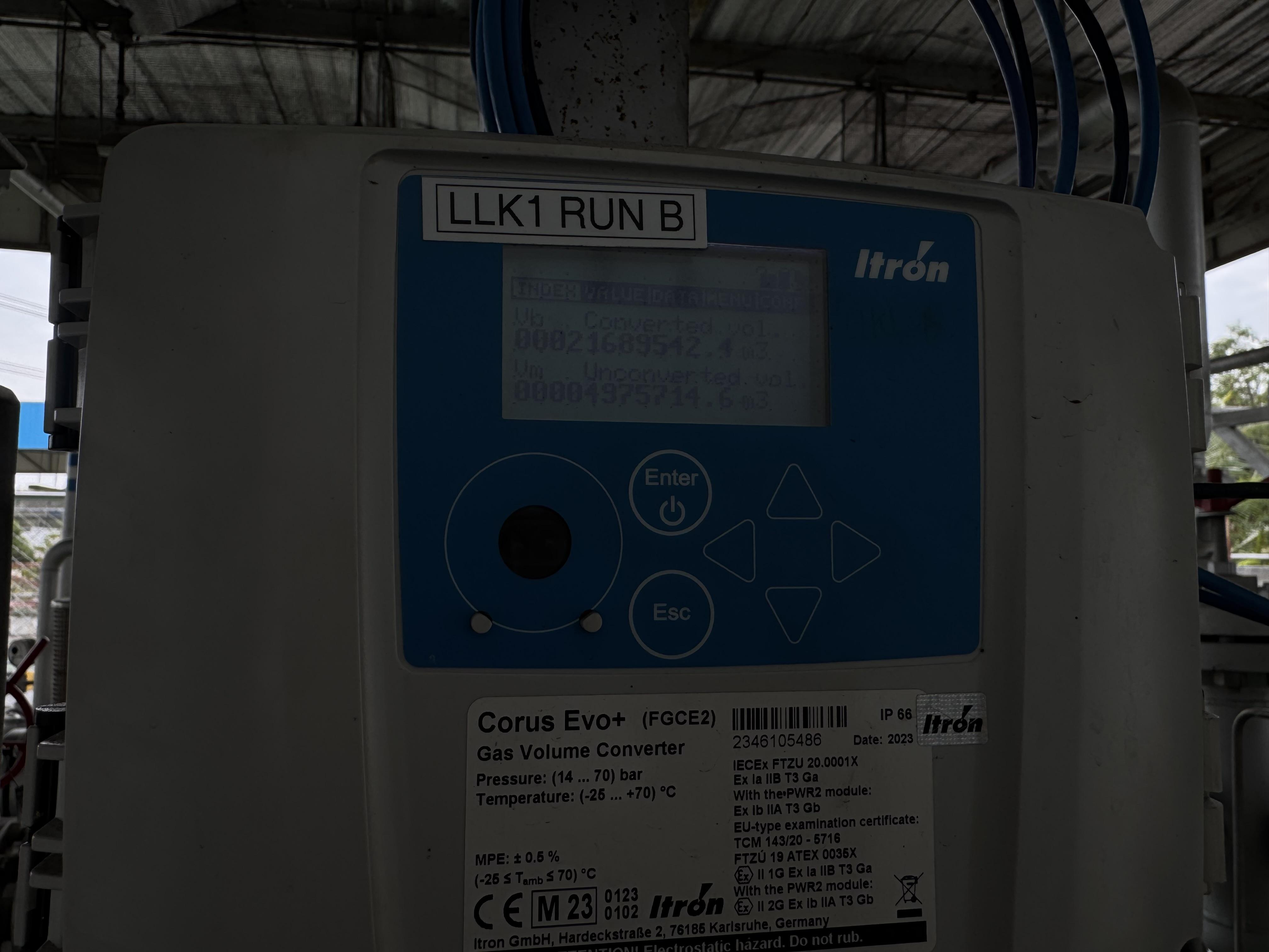digital_screen: (498, 235, 835, 426)
